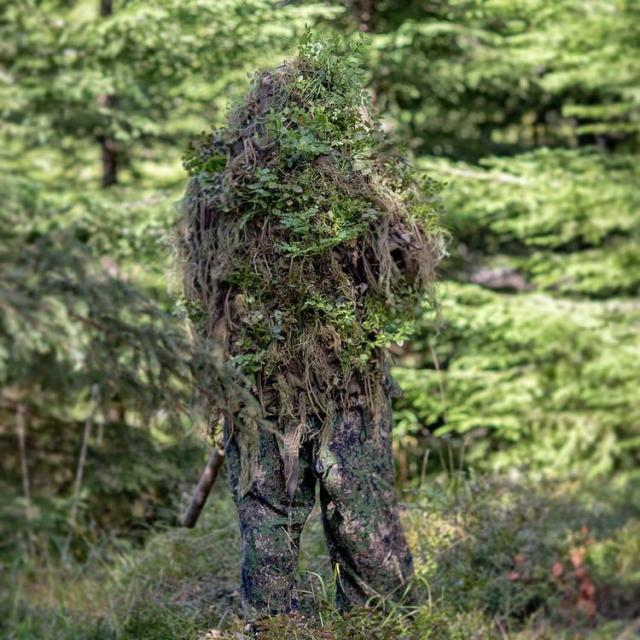Human: (173, 23, 442, 620)
